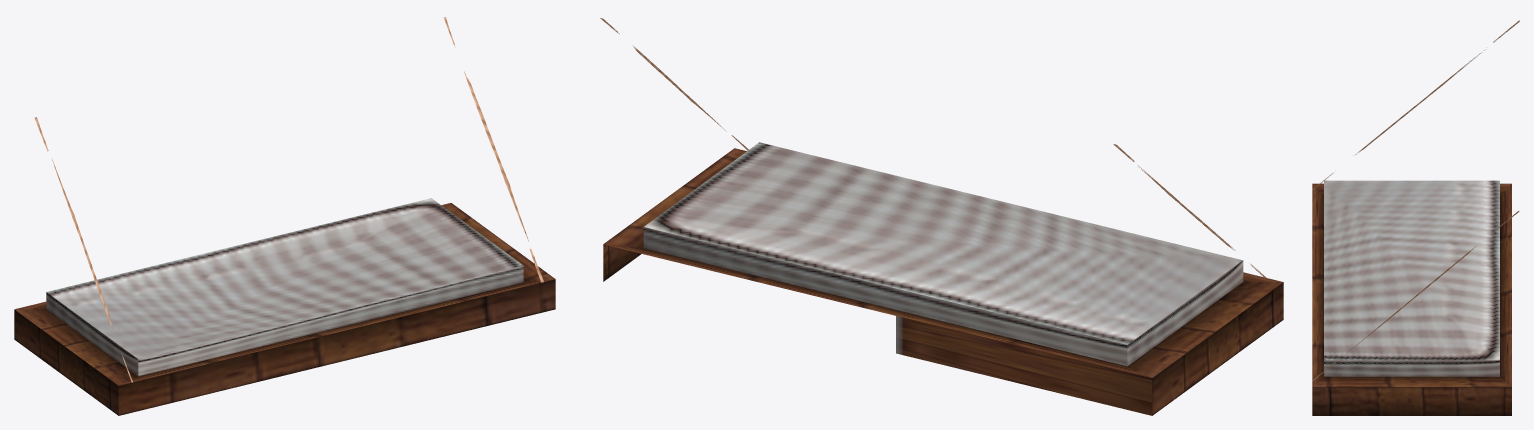
The model's file is Bed.fbx.
The picture shows the model from 3 angles, left to right: view 1: azimuth 30°, elevation 25°; view 2: azimuth 150°, elevation 25°; view 3: azimuth 270°, elevation 25°; orthographic projection. The views are drawn at different scales.
Parts seen in each view (by area): view 1: Bed; view 2: Bed; view 3: Bed.
Boxes of the visible parts, x1,y1,x2,y2 form: Bed: [14, 17, 555, 415]; Bed: [600, 18, 1283, 415]; Bed: [1312, 20, 1519, 415].
Size of the model in its own units: 761 by 346 by 320.
